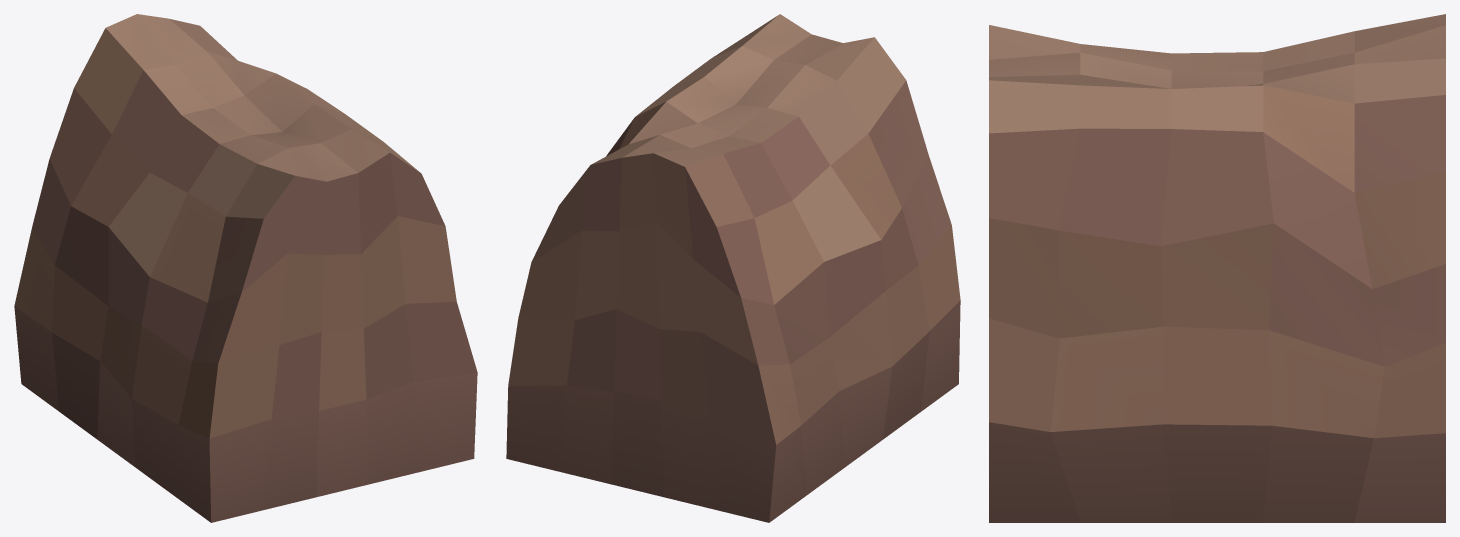
Rendered from roca_recta.glb.
3 views of the same model, side by side, from view 1: azimuth 30°, elevation 25°; view 2: azimuth 150°, elevation 25°; view 3: azimuth 270°, elevation 25° (orthographic). The views are drawn at different scales.
Visible parts, largest first — view 1: propforge-cuartos-roca_recta; view 2: propforge-cuartos-roca_recta; view 3: propforge-cuartos-roca_recta.
Boxes of the visible parts, x1=… form: propforge-cuartos-roca_recta: x1=14, y1=14, x2=477, y2=522; propforge-cuartos-roca_recta: x1=506, y1=14, x2=960, y2=522; propforge-cuartos-roca_recta: x1=989, y1=14, x2=1445, y2=522.
Size of the model in its own units: 0.8596 by 0.9934 by 1.
